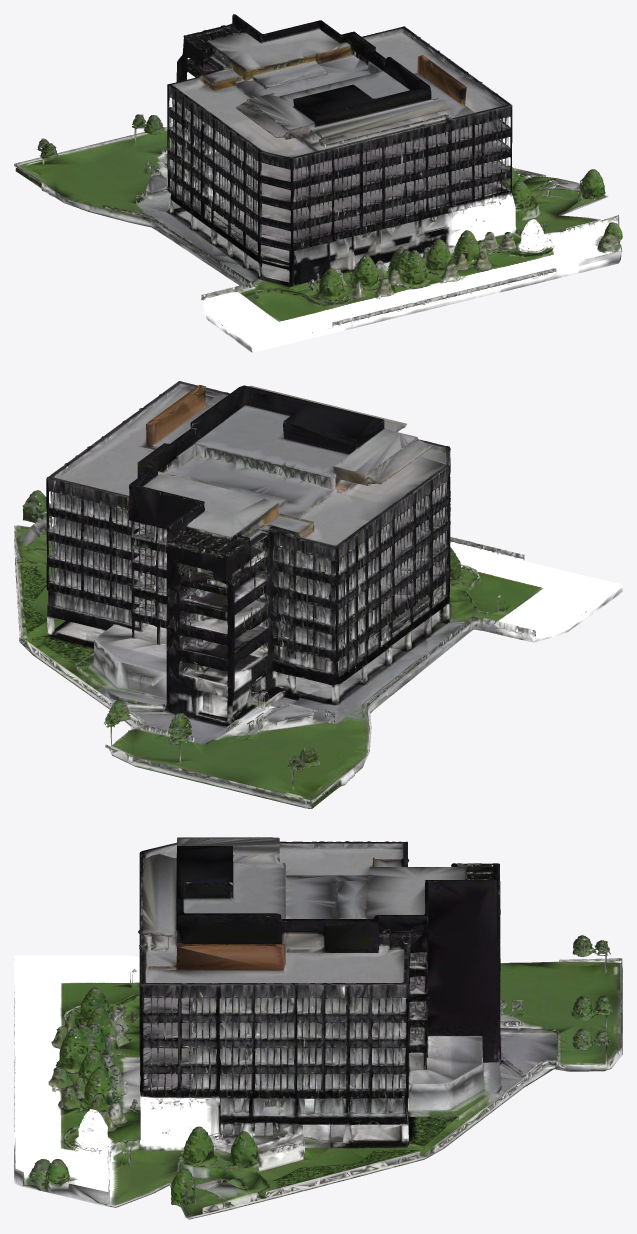
File: building-final.glb
3 views of the same model, one above another, from view 1: azimuth 30°, elevation 25°; view 2: azimuth 150°, elevation 25°; view 3: azimuth 270°, elevation 25° (orthographic). The views are drawn at different scales.
Parts seen in each view (by area): view 1: Mesh_0.002; view 2: Mesh_0.002; view 3: Mesh_0.002.
Part boxes in pixels (x1,y1,x2,y2): Mesh_0.002: [14, 14, 622, 352]; Mesh_0.002: [14, 381, 622, 808]; Mesh_0.002: [14, 837, 622, 1219].
Bounding box in the file's own units: 84.9 × 29.99 × 84.94.
Materials: 1 (1 with a texture image).
